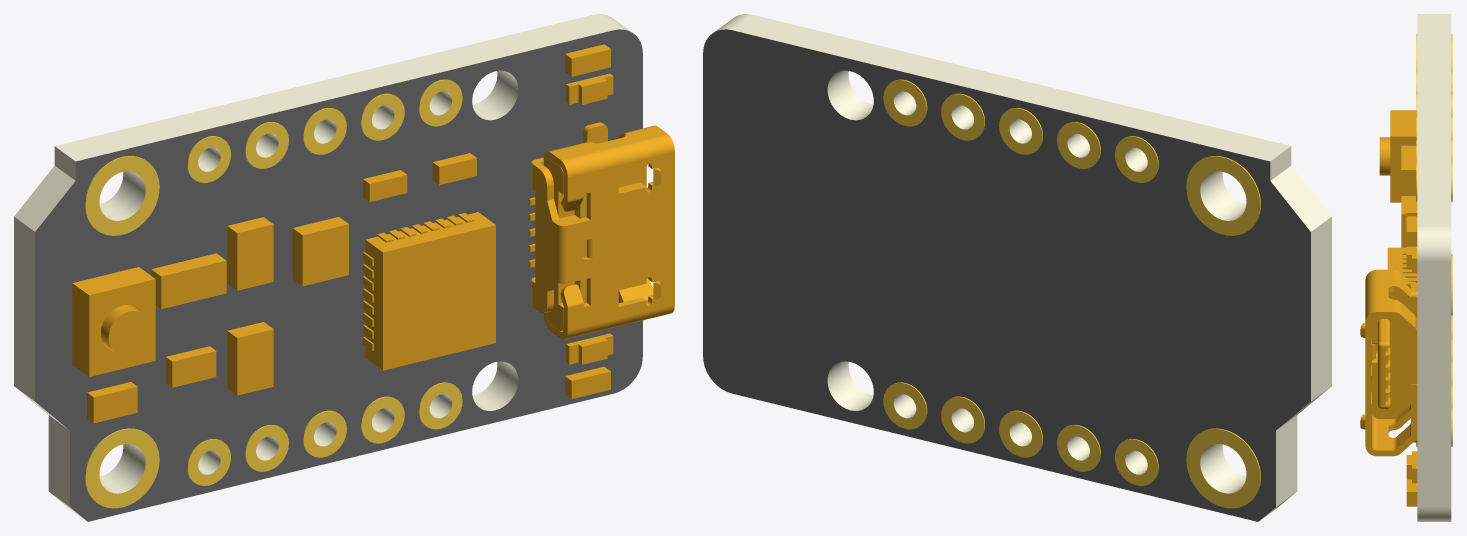
The model's file is microcontroller.obj.
The picture shows the model from 3 angles, left to right: view 1: azimuth 30°, elevation 25°; view 2: azimuth 150°, elevation 25°; view 3: azimuth 270°, elevation 25°; orthographic projection. The views are drawn at different scales.
Visible parts, largest first — view 1: Body1; view 2: Body1; view 3: Body1.
Boxes of the visible parts, x1,y1,x2,y2 form: Body1: (14,14,674,521); Body1: (703,14,1331,521); Body1: (1360,14,1452,521).
Size of the model in its own units: 1.05 by 0.6 by 0.1705.
